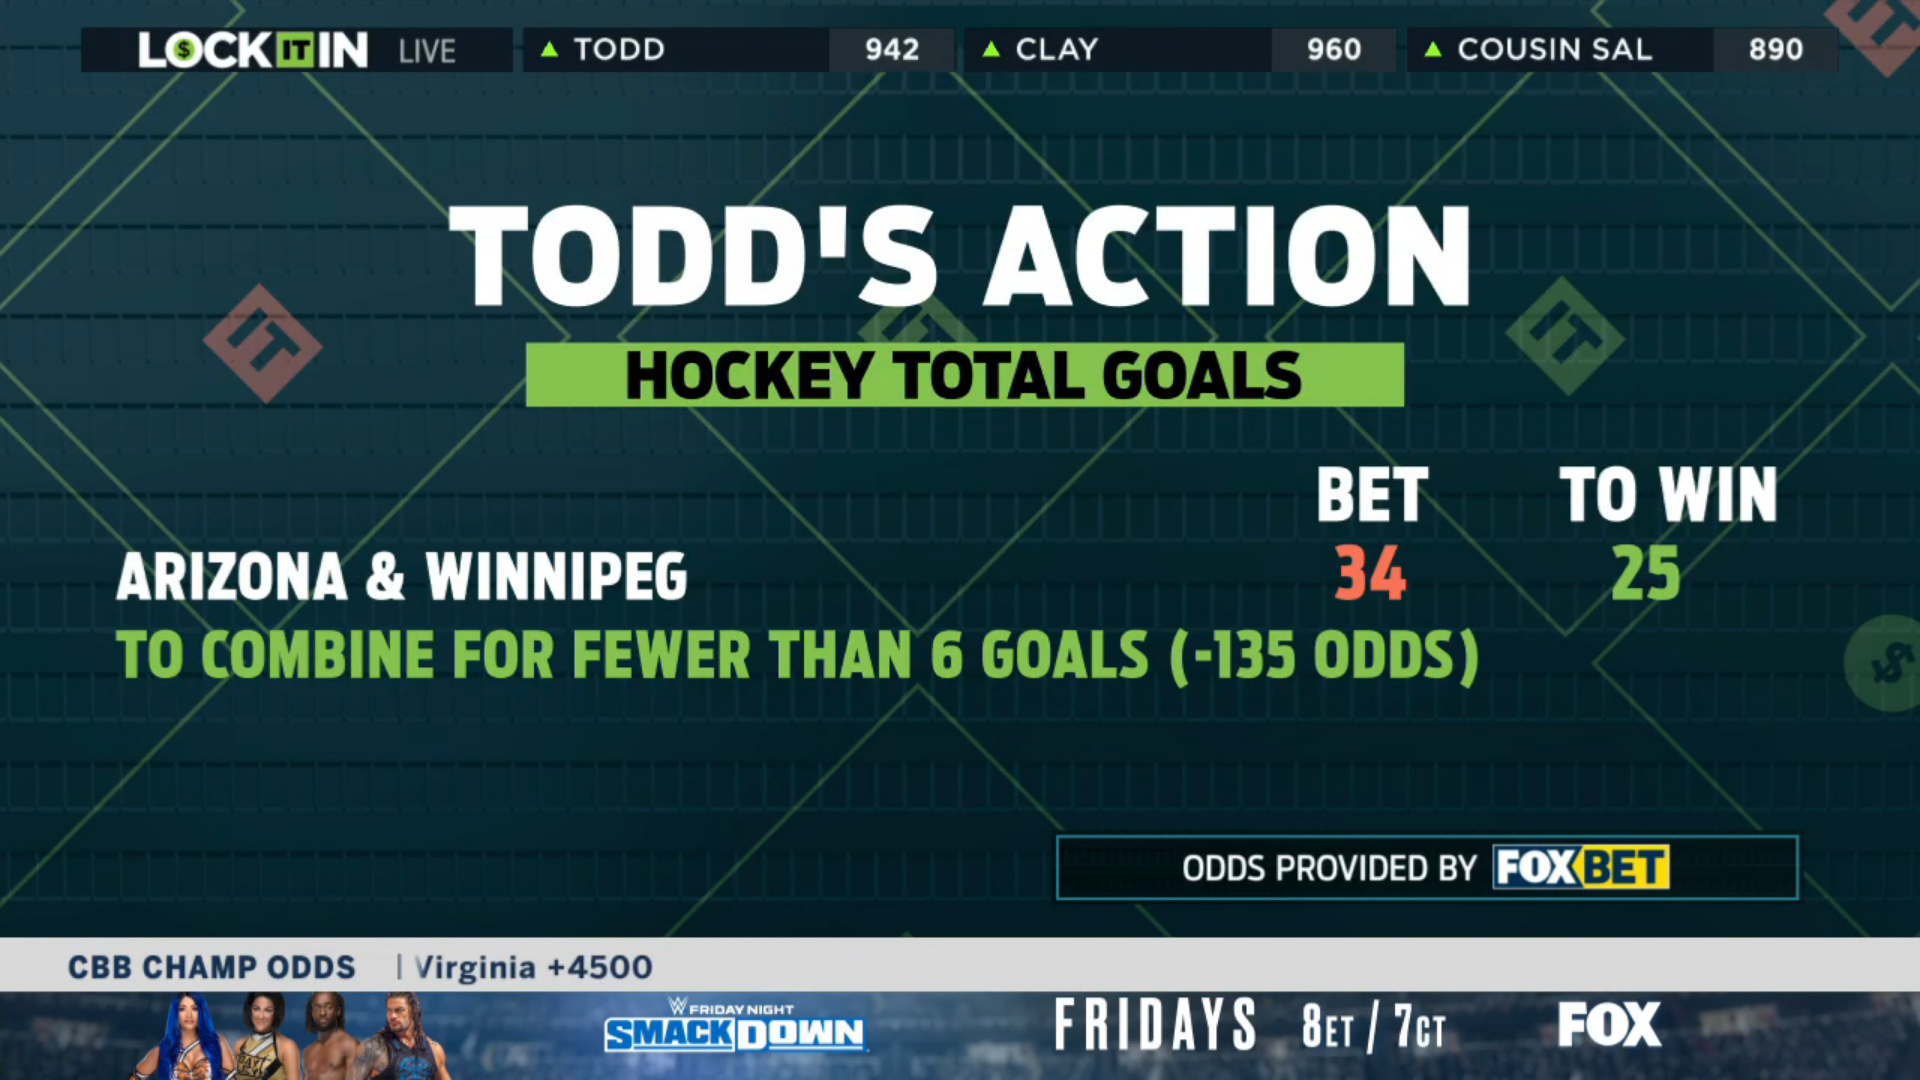Bet: (105, 537, 1489, 698)
Bet Amount: (1308, 452, 1441, 618)
Subtitle: (516, 332, 1418, 415)
Title: (439, 196, 1484, 316)
To Win: (1549, 456, 1792, 616)
Top Bar: (73, 17, 1849, 80)
